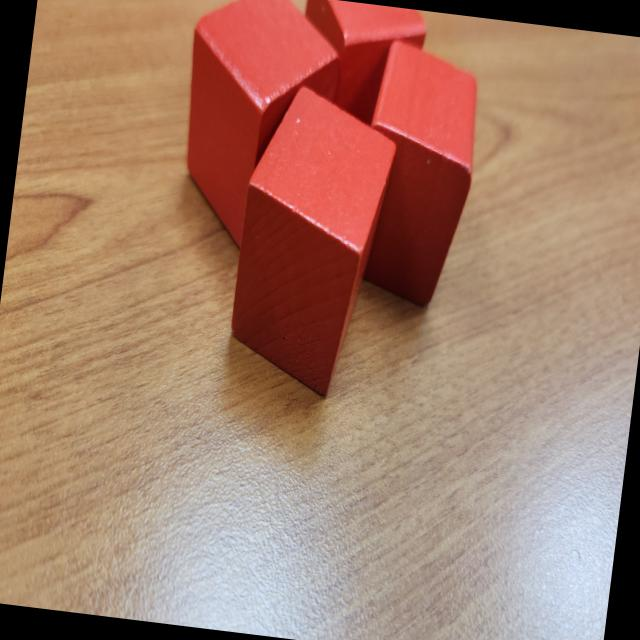red: (222, 78, 400, 406), (167, 0, 345, 259), (338, 32, 490, 312), (288, 0, 427, 128)
